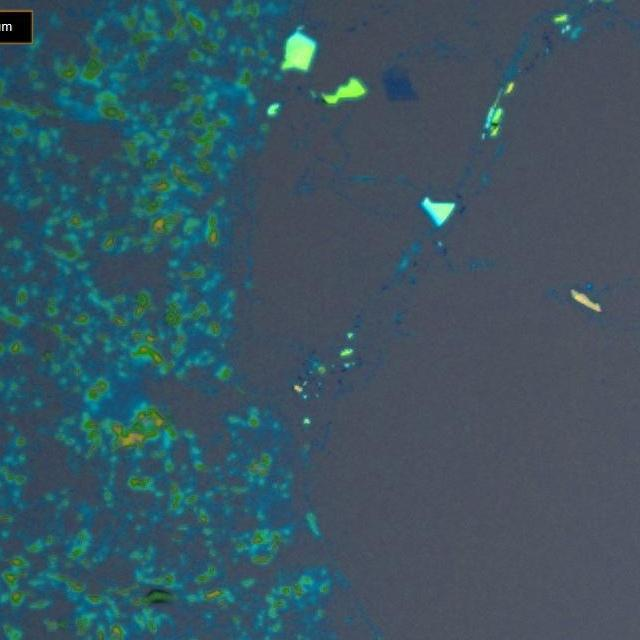monolayer-eWW4: (380, 64, 419, 105)
